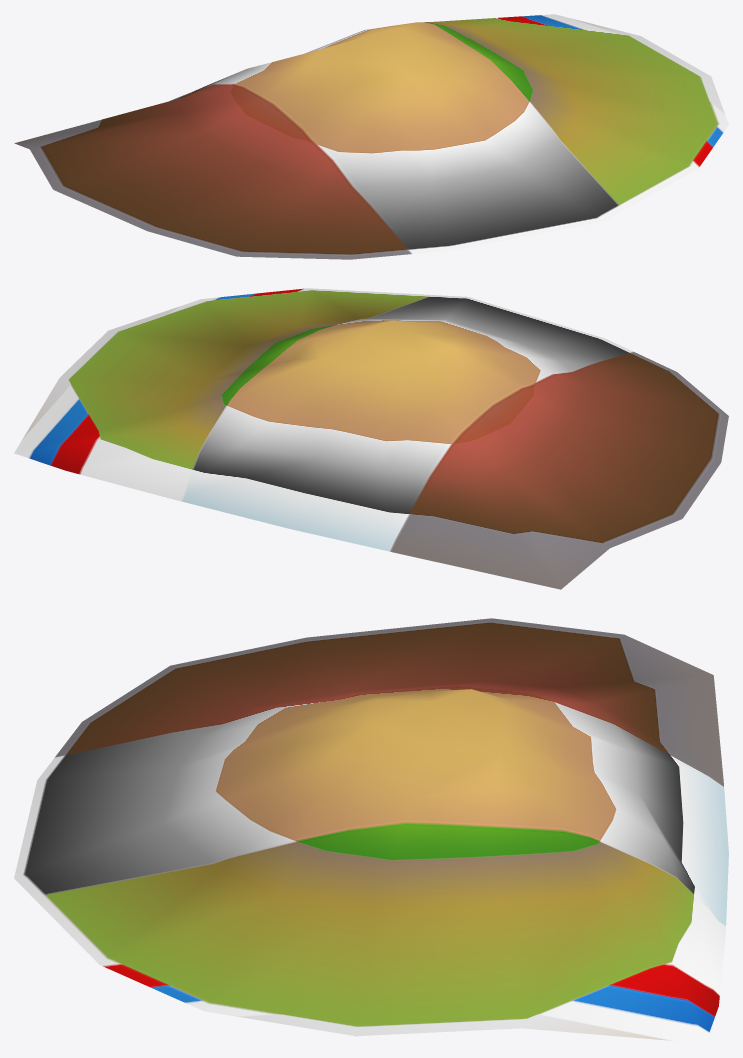
The model's file is green patch1.fbx.
3 views of the same model, one above another, from view 1: azimuth 30°, elevation 25°; view 2: azimuth 150°, elevation 25°; view 3: azimuth 270°, elevation 25° (orthographic). The views are drawn at different scales.
Parts seen in each view (by area): view 1: TerrainPatchGreen; view 2: TerrainPatchGreen; view 3: TerrainPatchGreen.
Part boxes in pixels (x1,y1,x2,y2): TerrainPatchGreen: (14, 14, 728, 259); TerrainPatchGreen: (14, 288, 728, 589); TerrainPatchGreen: (14, 618, 728, 1043).
Bounding box in the file's own units: 19.44 × 2.98 × 14.05.
